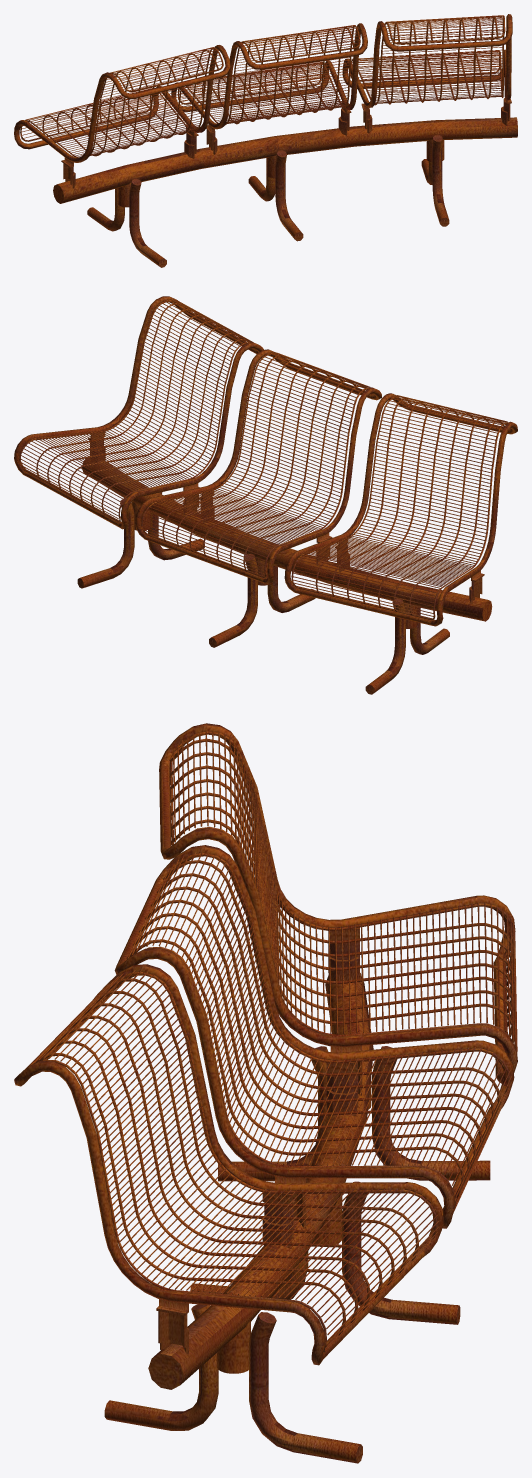
The picture shows the model from 3 angles, top to bottom: view 1: azimuth 30°, elevation 25°; view 2: azimuth 150°, elevation 25°; view 3: azimuth 270°, elevation 25°; orthographic projection. The views are drawn at different scales.
Visible parts, largest first — view 1: mesh277_mesh277-geometry, mesh291_mesh291-geometry, mesh3_mesh3-geometry, mesh285_mesh285-geometry, mesh4_mesh4-geometry, mesh1_mesh1-geometry, mesh279_mesh279-geometry, mesh288_mesh288-geometry, mesh283_mesh283-geometry, mesh55_mesh55-geometry, mesh45_mesh45-geometry, mesh54_mesh54-geometry (+53 smaller); view 2: mesh277_mesh277-geometry, mesh3_mesh3-geometry, mesh291_mesh291-geometry, mesh285_mesh285-geometry, mesh1_mesh1-geometry, mesh4_mesh4-geometry, mesh279_mesh279-geometry, mesh288_mesh288-geometry, mesh283_mesh283-geometry, mesh57_mesh57-geometry, mesh37_mesh37-geometry, mesh41_mesh41-geometry (+60 smaller); view 3: mesh277_mesh277-geometry, mesh3_mesh3-geometry, mesh285_mesh285-geometry, mesh291_mesh291-geometry, mesh4_mesh4-geometry, mesh1_mesh1-geometry, mesh279_mesh279-geometry, mesh283_mesh283-geometry, mesh288_mesh288-geometry, mesh281_mesh281-geometry.
Part boxes in pixels (x1,y1,x2,y2): mesh277_mesh277-geometry: (14,14,512,162); mesh291_mesh291-geometry: (53,117,517,203); mesh3_mesh3-geometry: (42,16,498,156); mesh285_mesh285-geometry: (87,135,449,267); mesh4_mesh4-geometry: (20,22,448,157); mesh1_mesh1-geometry: (88,16,505,131); mesh279_mesh279-geometry: (63,98,510,184); mesh288_mesh288-geometry: (118,139,444,207); mesh283_mesh283-geometry: (65,106,507,188); mesh55_mesh55-geometry: (41,62,500,129); mesh45_mesh45-geometry: (55,75,501,140); mesh54_mesh54-geometry: (45,66,500,132); mesh277_mesh277-geometry: (14,296,517,626); mesh3_mesh3-geometry: (36,303,504,615); mesh291_mesh291-geometry: (81,456,492,621); mesh285_mesh285-geometry: (77,492,449,694); mesh1_mesh1-geometry: (19,300,456,603); mesh4_mesh4-geometry: (72,330,506,620); mesh279_mesh279-geometry: (90,437,482,600); mesh288_mesh288-geometry: (131,502,417,628); mesh283_mesh283-geometry: (91,447,479,603); mesh57_mesh57-geometry: (18,461,433,613); mesh37_mesh37-geometry: (20,467,434,619); mesh41_mesh41-geometry: (20,450,434,603); mesh277_mesh277-geometry: (14,723,517,1365); mesh3_mesh3-geometry: (35,738,514,1335); mesh285_mesh285-geometry: (104,1046,490,1463); mesh291_mesh291-geometry: (148,973,373,1389); mesh4_mesh4-geometry: (71,731,512,1296); mesh1_mesh1-geometry: (42,802,509,1352); mesh279_mesh279-geometry: (158,940,362,1347); mesh283_mesh283-geometry: (160,957,361,1354); mesh288_mesh288-geometry: (217,1078,371,1373); mesh281_mesh281-geometry: (156,927,361,1315).
Bounding box in the file's own units: 0.8268 × 0.3725 × 0.4215.
